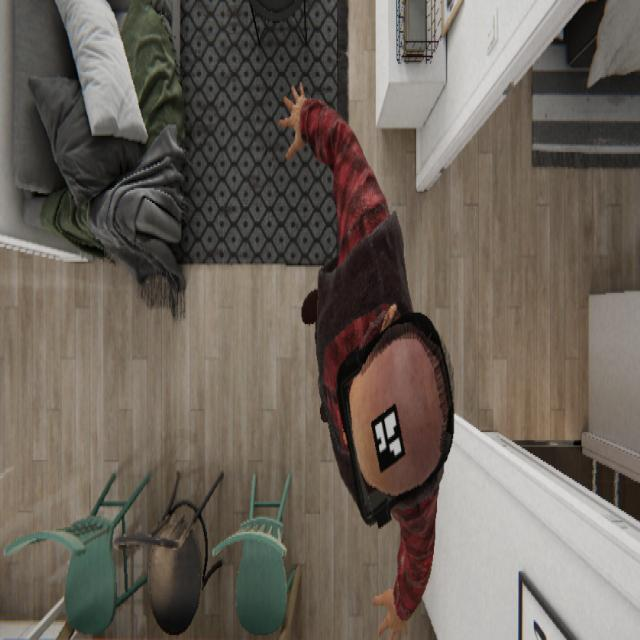AruCO: (370, 399, 406, 473)
Human: (277, 79, 455, 636)
